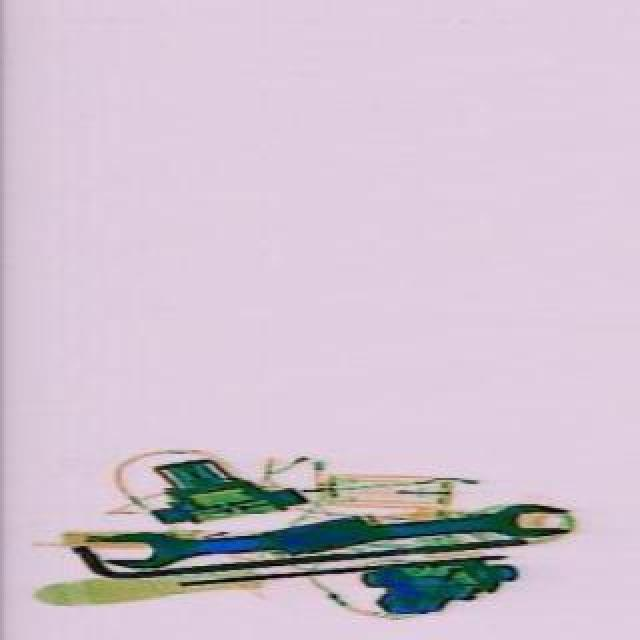scissors: (94, 500, 566, 572)
